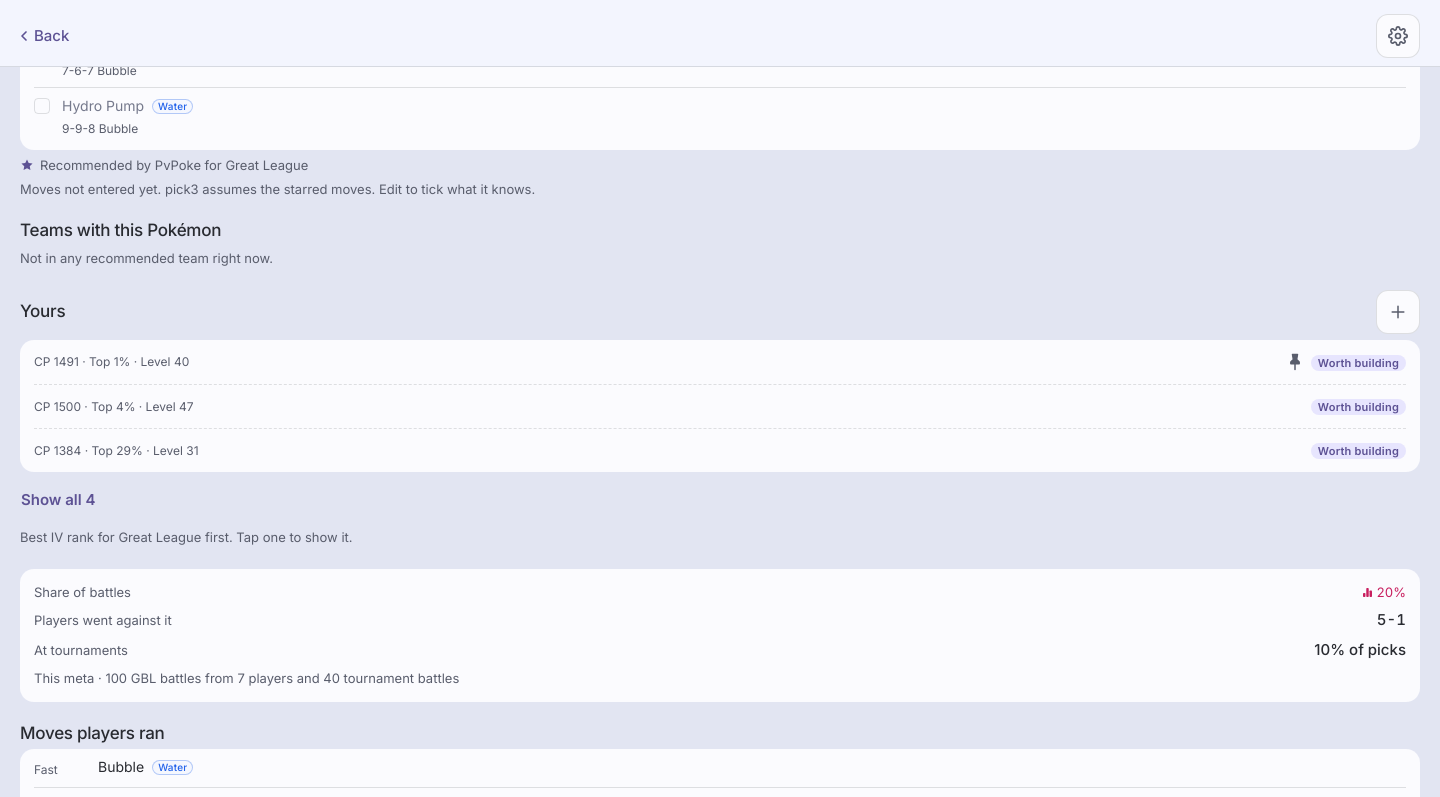
it: Species page: your copies › hides Cost to build when there is nothing to pay, and shows it when there is
(page scrolled)
Expected: the heading "Cost to build" is not shown
Click the link with class "spec-row" that starts with "CP 1500 · Top 4% · Level 47" at (114,406), box x1=34 y1=384 x2=1406 y2=428
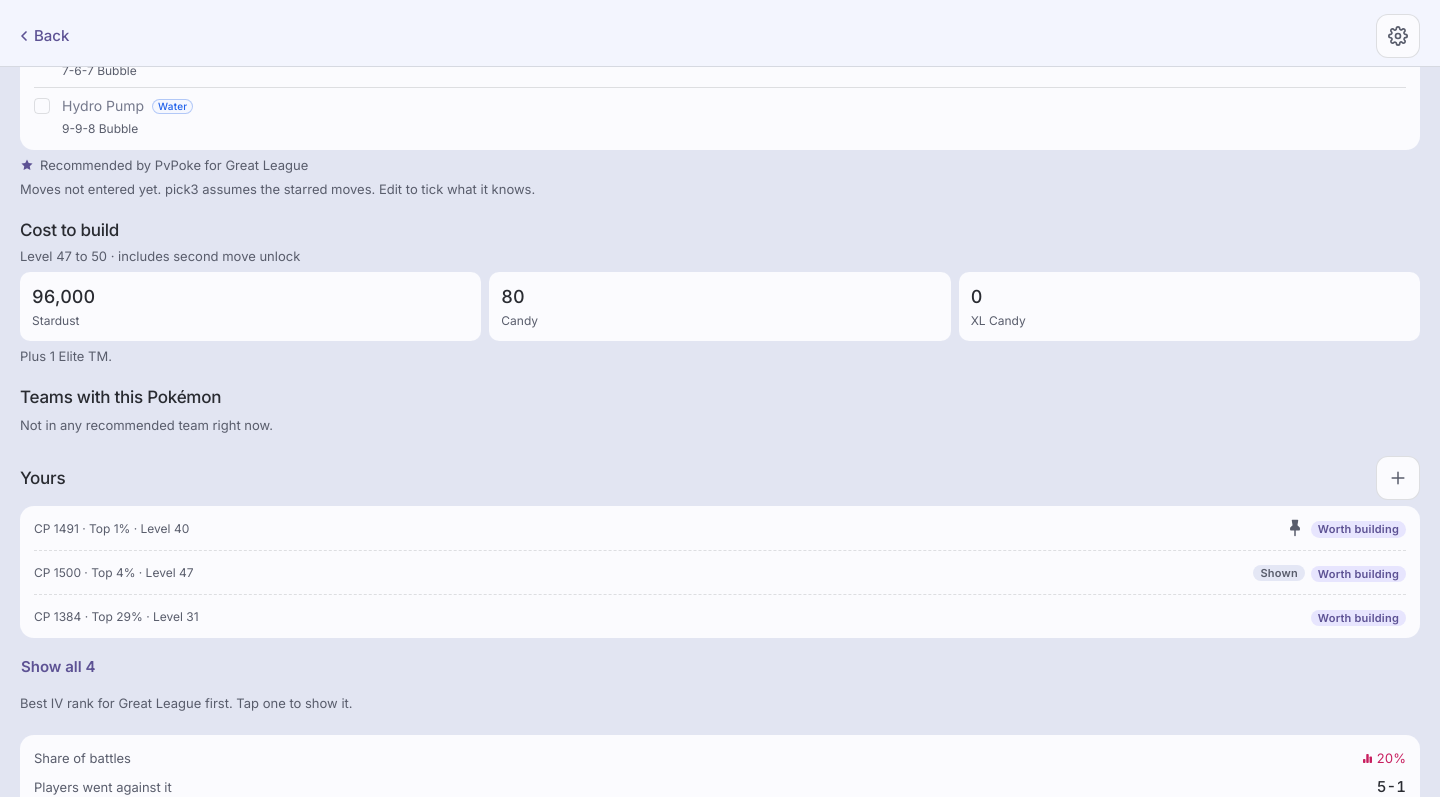
Expected: the heading "Cost to build" is shown, x1=20 y1=220 x2=119 y2=240
Expected: the text "Level 47 to 50 · includes second move unlock" is shown, x1=20 y1=248 x2=300 y2=264
Expected: the text "Plus 1 Elite TM." is shown, x1=20 y1=348 x2=112 y2=364
